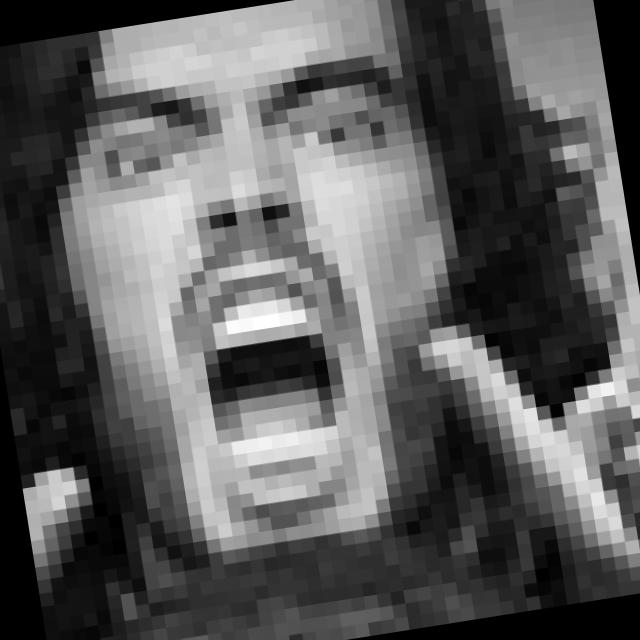angry: (76, 43, 471, 540)
